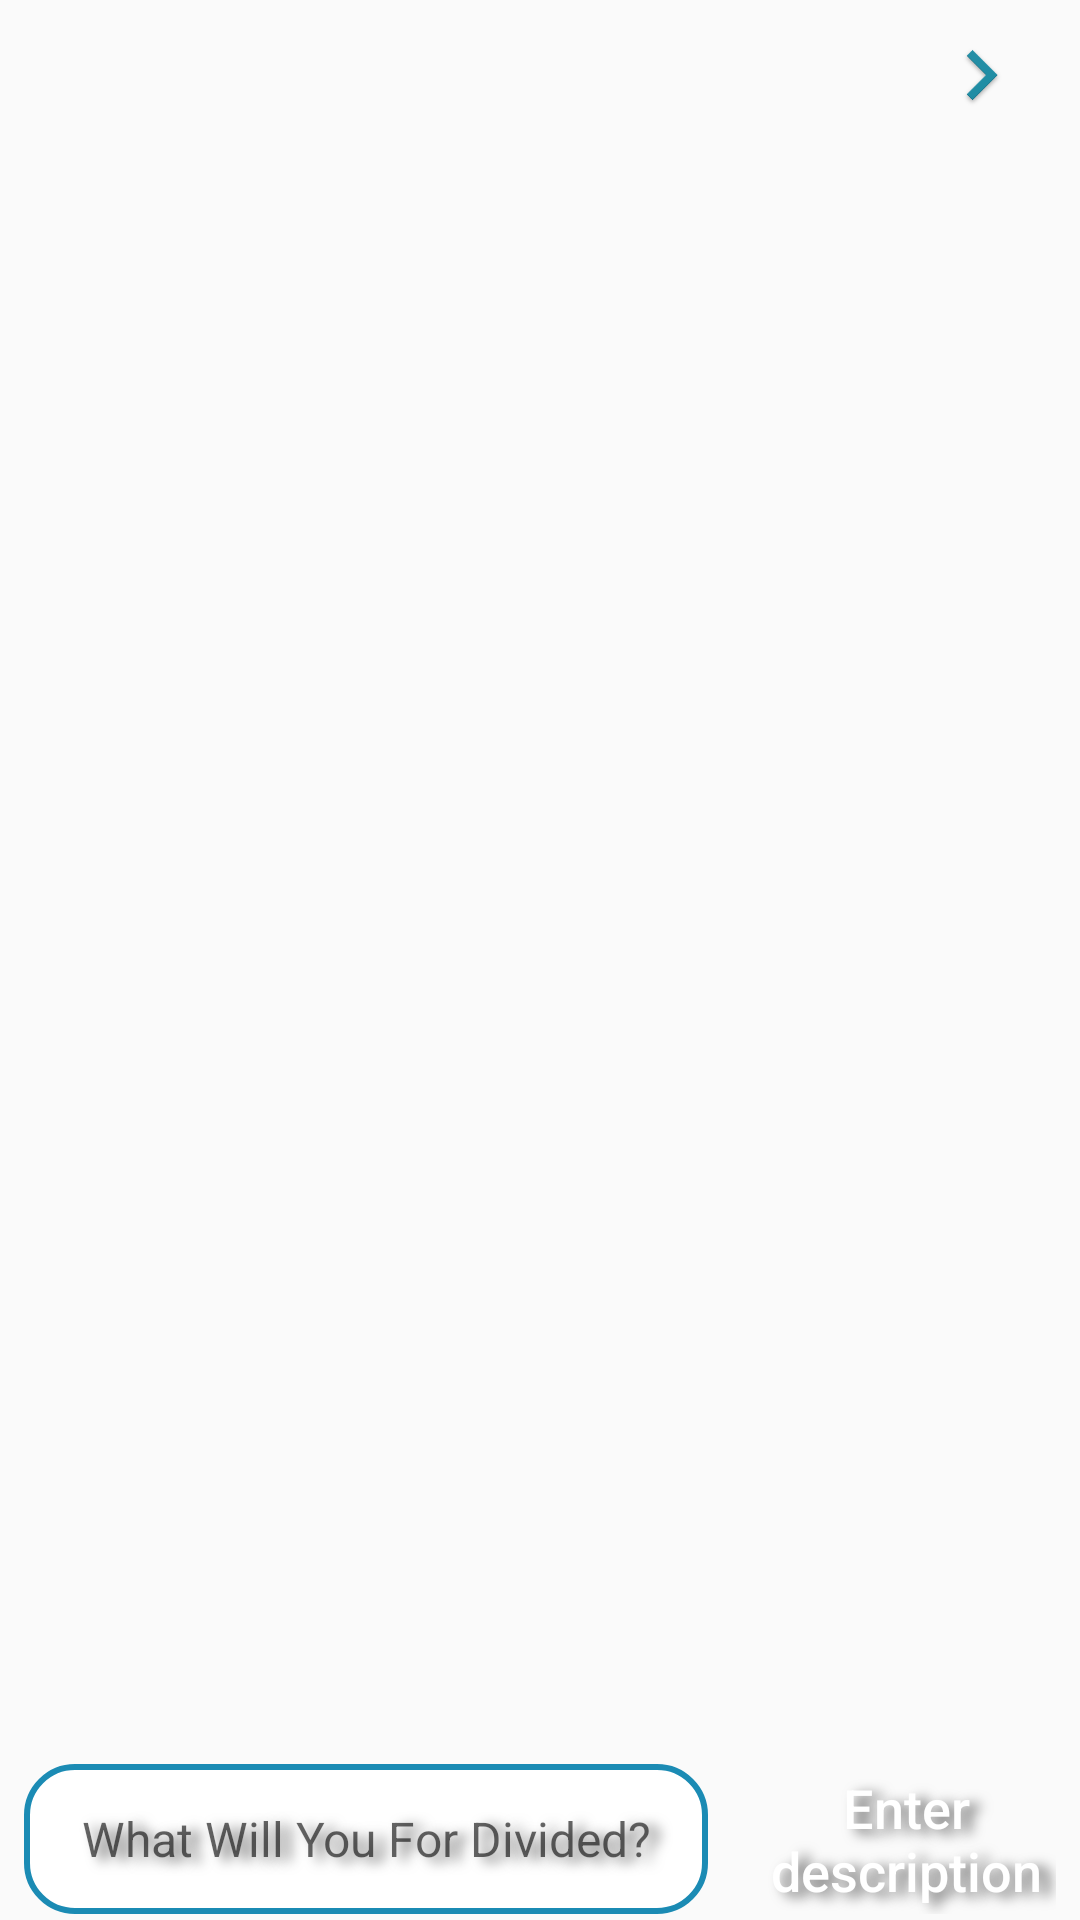

Icon bounding boxes for this 1080x1920 phone screenshot, format [x1, y1, x2, y2]:
next: [967, 50, 998, 102]
